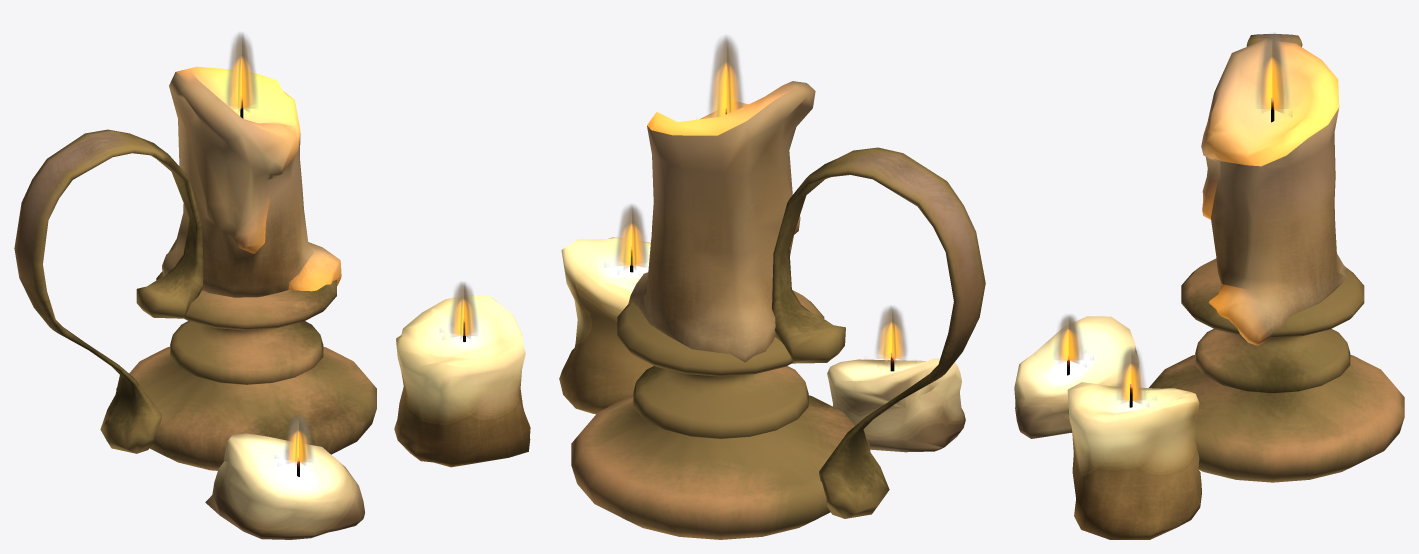
File: candles.glb
3 views of the same model, side by side, from view 1: azimuth 30°, elevation 25°; view 2: azimuth 150°, elevation 25°; view 3: azimuth 270°, elevation 25° (orthographic). The views are drawn at different scales.
Visible parts, largest first — view 1: g (×11); view 2: g (×12); view 3: g (×11).
Part boxes in pixels (x1,y1,x2,y2): g (×11): (14,36,530,539); g (×12): (559,39,985,539); g (×11): (1014,37,1404,539).
Size of the model in its own units: 2 by 1.83 by 1.57.
7 materials, 7 textured.
